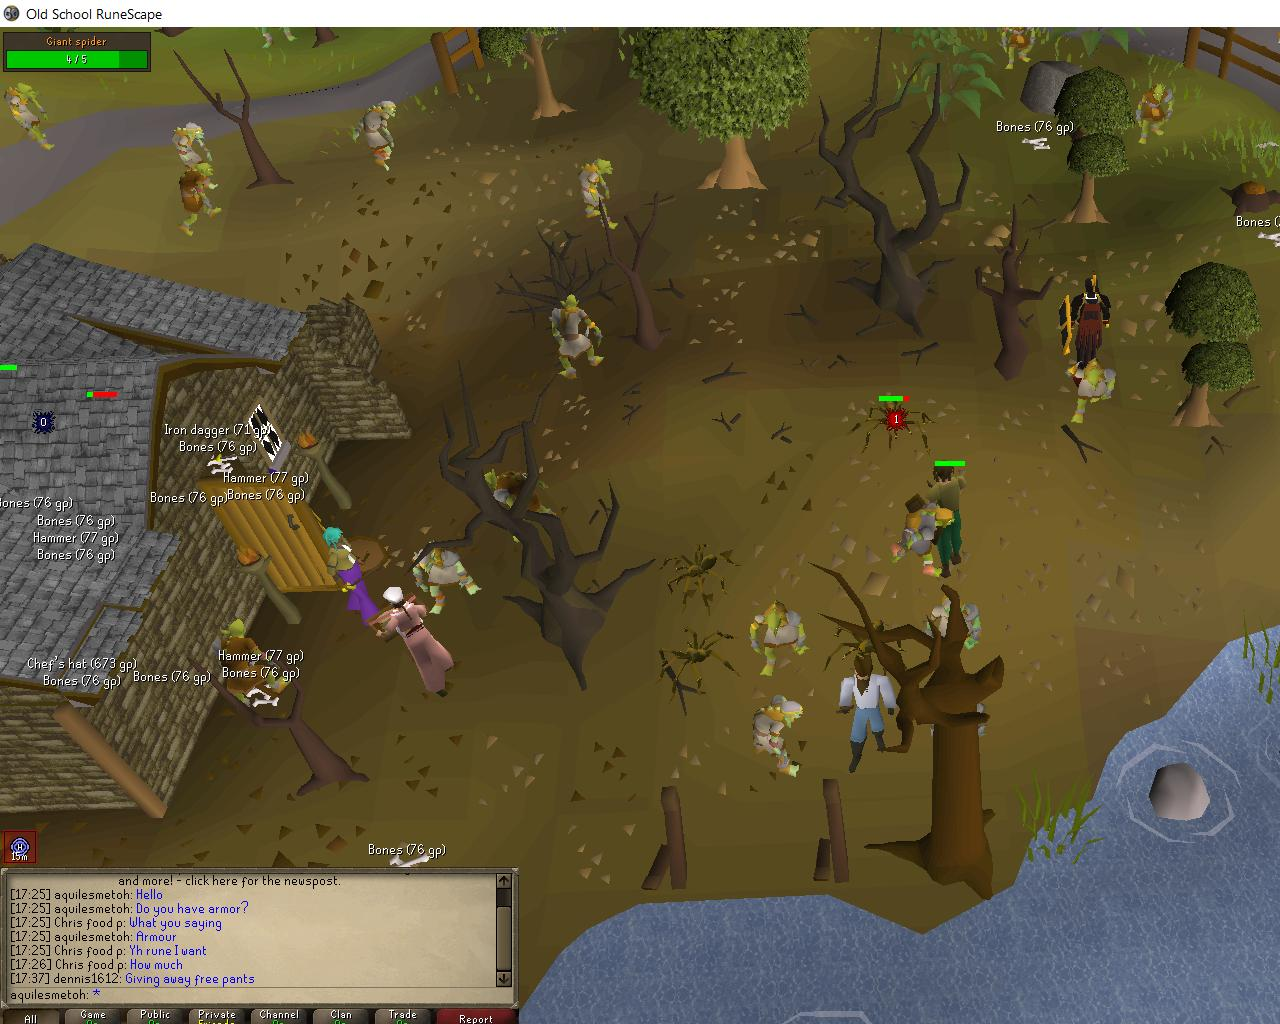Goblin: (206, 619, 299, 704), (481, 469, 567, 546), (540, 287, 607, 385), (402, 545, 491, 618), (886, 504, 965, 581), (747, 694, 816, 782), (744, 599, 819, 677), (163, 119, 228, 195), (911, 595, 997, 651), (1061, 358, 1130, 424), (1, 83, 63, 153), (350, 98, 406, 173), (173, 160, 226, 236), (576, 154, 623, 230), (1130, 82, 1181, 145), (999, 27, 1039, 70)
